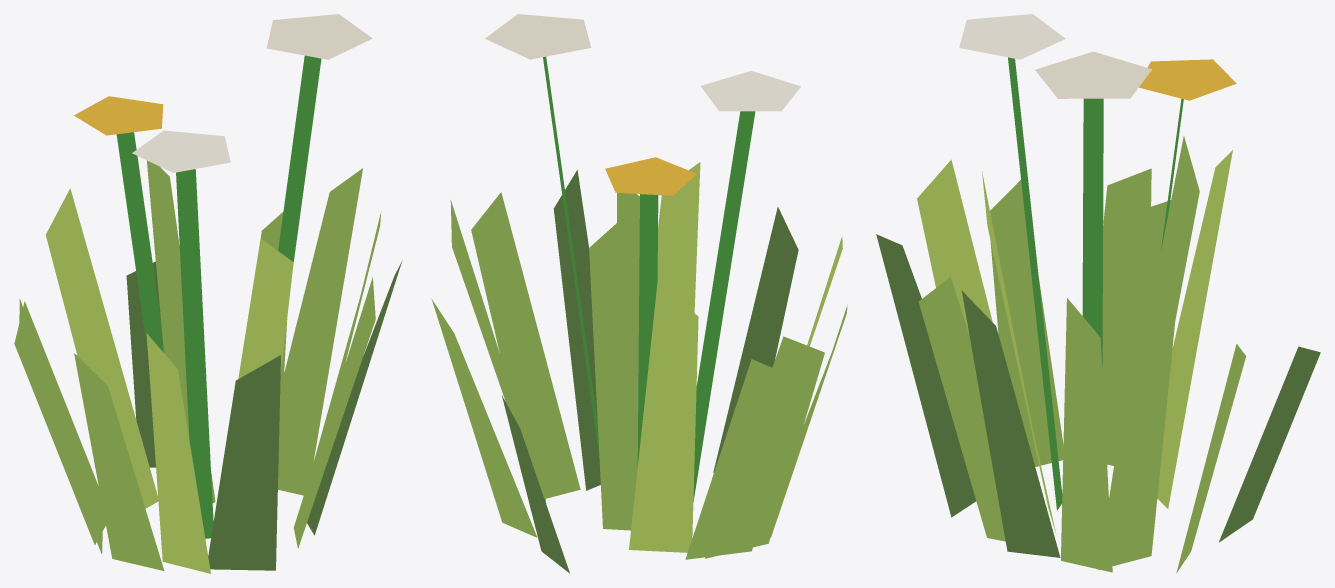
File: SM_Grass_Clump_D.fbx
The picture shows the model from 3 angles, left to right: view 1: azimuth 30°, elevation 25°; view 2: azimuth 150°, elevation 25°; view 3: azimuth 270°, elevation 25°; orthographic projection. The views are drawn at different scales.
Parts seen in each view (by area): view 1: SM_Grass_Clump_D; view 2: SM_Grass_Clump_D; view 3: SM_Grass_Clump_D.
Part boxes in pixels (box(x1,y1,x2,y2)): SM_Grass_Clump_D: box(14, 14, 402, 573); SM_Grass_Clump_D: box(431, 14, 847, 573); SM_Grass_Clump_D: box(876, 14, 1320, 573).
Bounding box in the file's own units: 0.507 × 0.62 × 0.5041.
